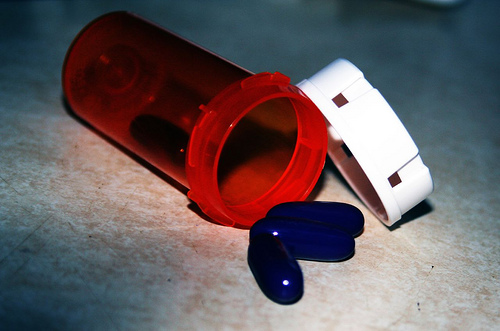pill bottle: (55, 7, 330, 230)
